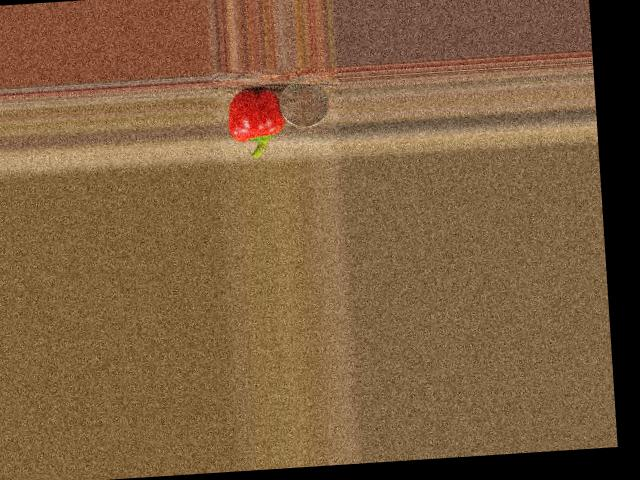bell_pepper: (225, 84, 284, 159)
